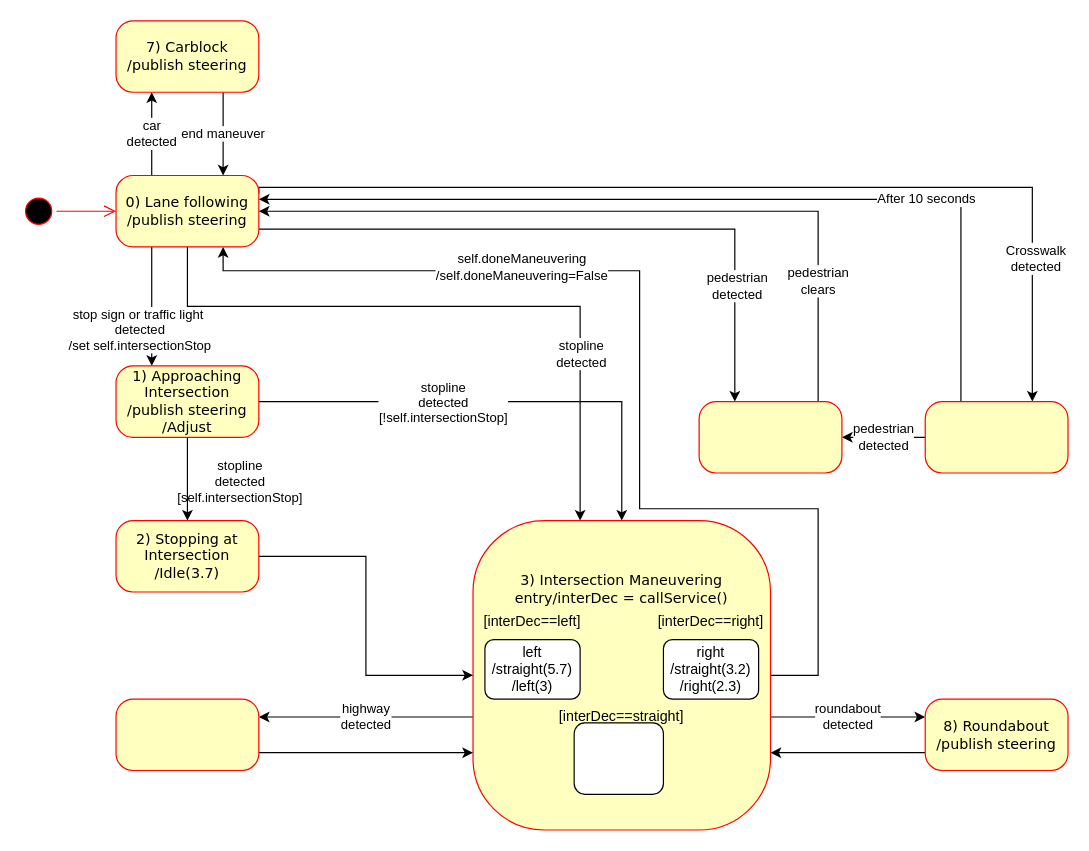
The diagram is 1089 pixels wide and 851 high, and some of its shapes have lost their labels. Each missing label, with the centre of its shape:
4) Approaching Crosswalk /slow(10): the point at 996,436
5) Pedestrian Appears /Idle(): the point at 770,436
6) Highway /publish steering: the point at 187,734
straight /straight(3.7): the point at 618,758
